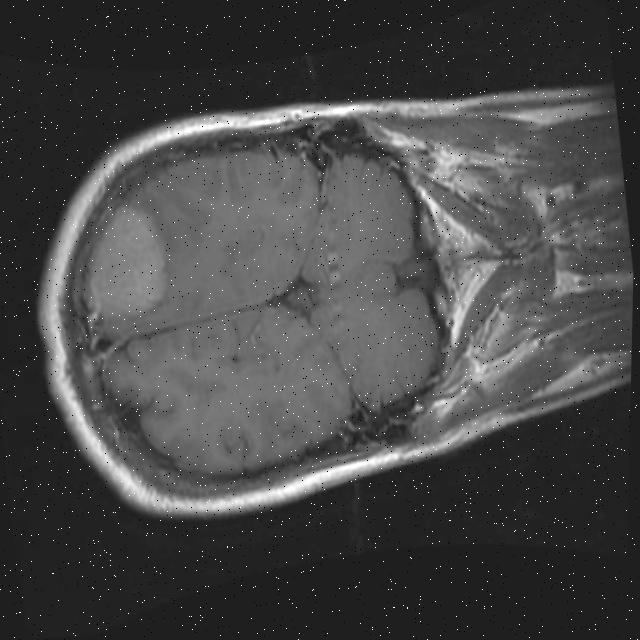Meningioma: (72, 196, 175, 329)
